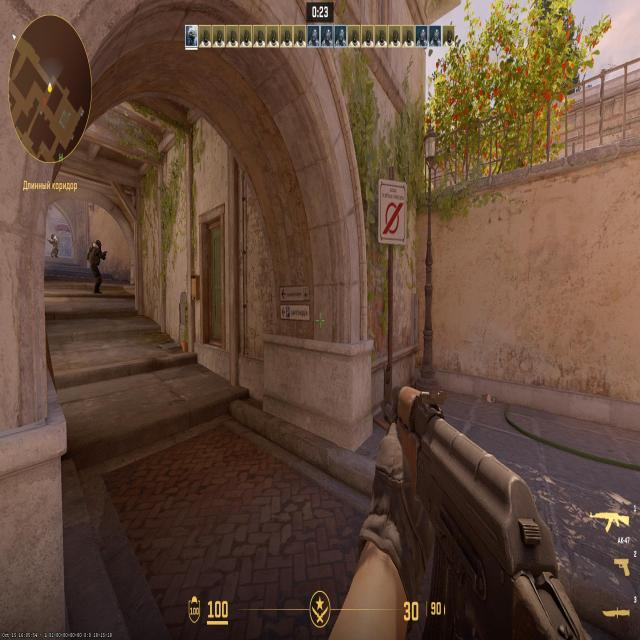CT: (92, 241, 102, 286), (50, 230, 57, 258)
CT_heat: (98, 240, 100, 250), (52, 236, 54, 240)
